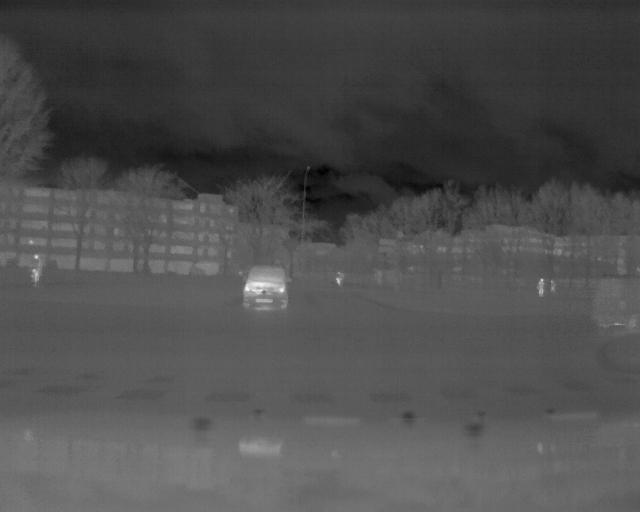car: (240, 264, 292, 314)
person: (31, 254, 40, 290), (538, 277, 545, 300)
